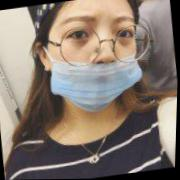WRONG: (42, 1, 146, 117)
